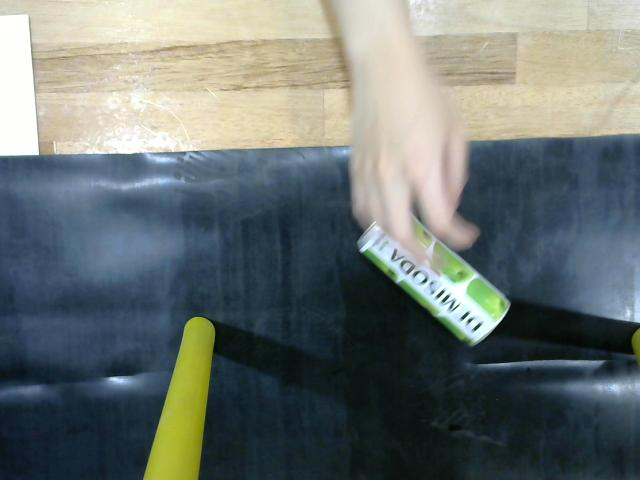can: (346, 194, 526, 354)
